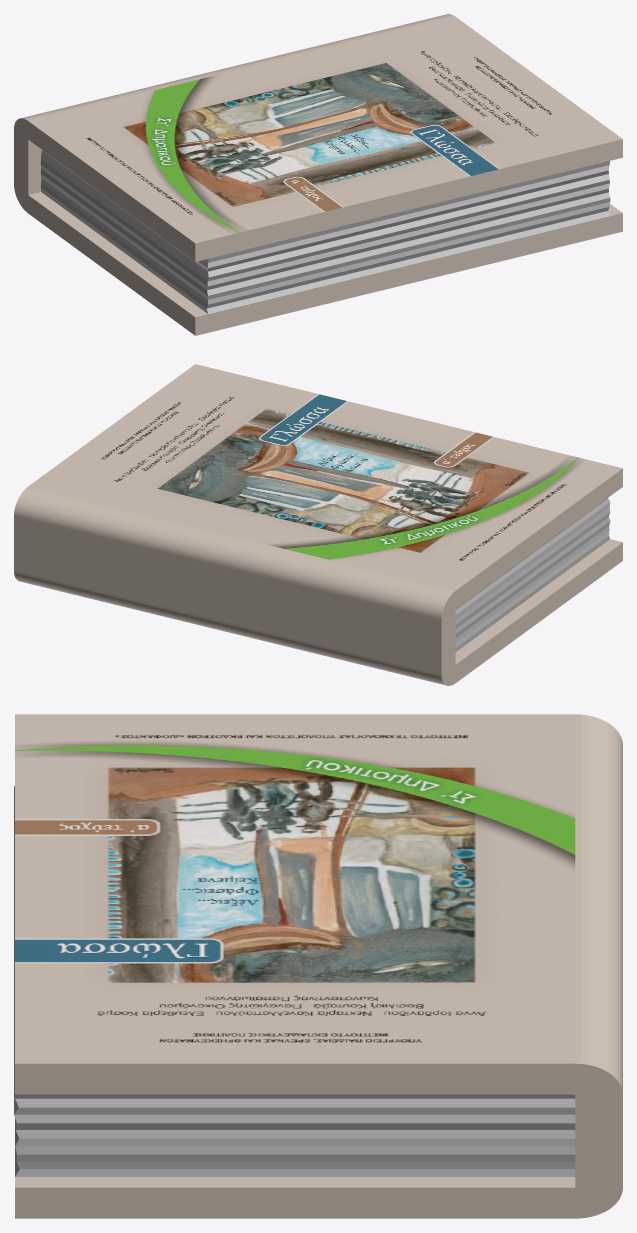
The model's file is book14.obj.
The picture shows the model from 3 angles, top to bottom: view 1: azimuth 30°, elevation 25°; view 2: azimuth 150°, elevation 25°; view 3: azimuth 270°, elevation 25°; orthographic projection. The views are drawn at different scales.
Parts seen in each view (by area): view 1: Cube_3, Cube_1, Cube_2; view 2: Cube_3, Cube_1, Cube_2; view 3: Cube_3, Cube_1, Cube_2.
Part boxes in pixels (x1=…): Cube_3: x1=41, y1=20, x2=609, y2=240; Cube_1: x1=14, y1=14, x2=622, y2=335; Cube_2: x1=40, y1=150, x2=610, y2=314; Cube_3: x1=41, y1=367, x2=609, y2=587; Cube_1: x1=14, y1=364, x2=622, y2=685; Cube_2: x1=455, y1=498, x2=610, y2=651; Cube_3: x1=15, y1=724, x2=575, y2=1053; Cube_1: x1=15, y1=714, x2=622, y2=1218; Cube_2: x1=14, y1=786, x2=575, y2=1176.
Size of the model in its own units: 186 by 38.44 by 137.
Materials: 3 (2 with a texture image).
